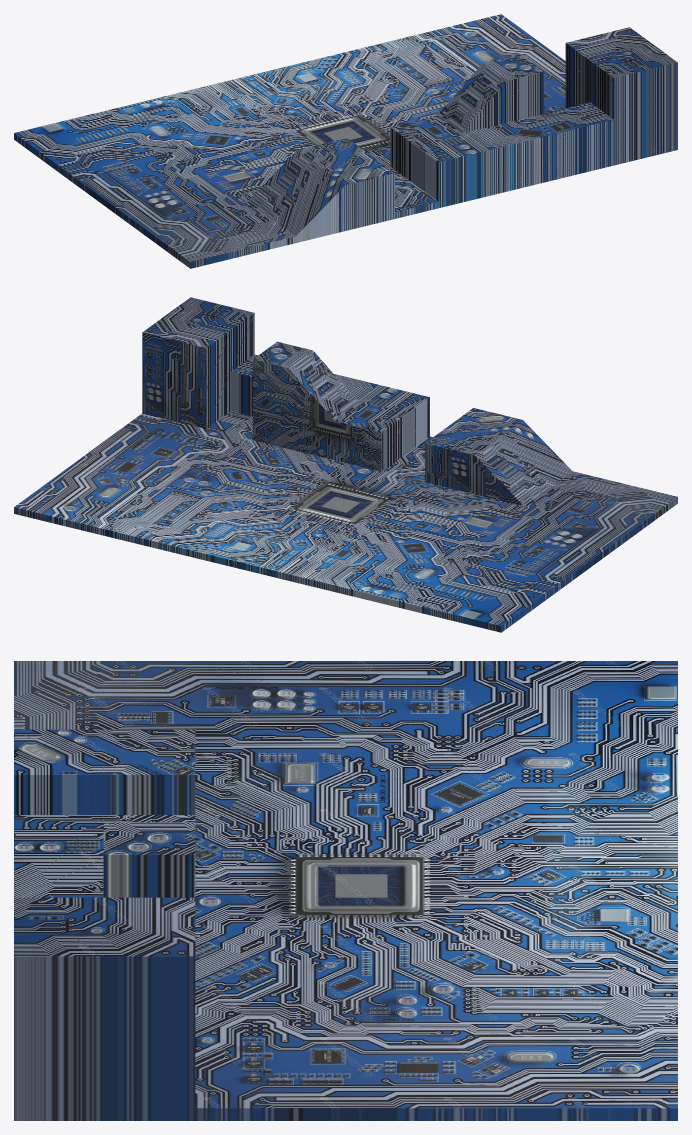
File: BruteLuzFloor.fbx
3 views of the same model, one above another, from view 1: azimuth 30°, elevation 25°; view 2: azimuth 150°, elevation 25°; view 3: azimuth 270°, elevation 25° (orthographic). The views are drawn at different scales.
Visible parts, largest first — view 1: pCube2; view 2: pCube2; view 3: pCube2.
Part boxes in pixels (left/top/right/bottom): pCube2: left=14, top=14, right=677, bottom=268; pCube2: left=14, top=297, right=677, bottom=632; pCube2: left=14, top=661, right=677, bottom=1120.
Bounding box in the file's own units: 19.26 × 3.3 × 12.08.
